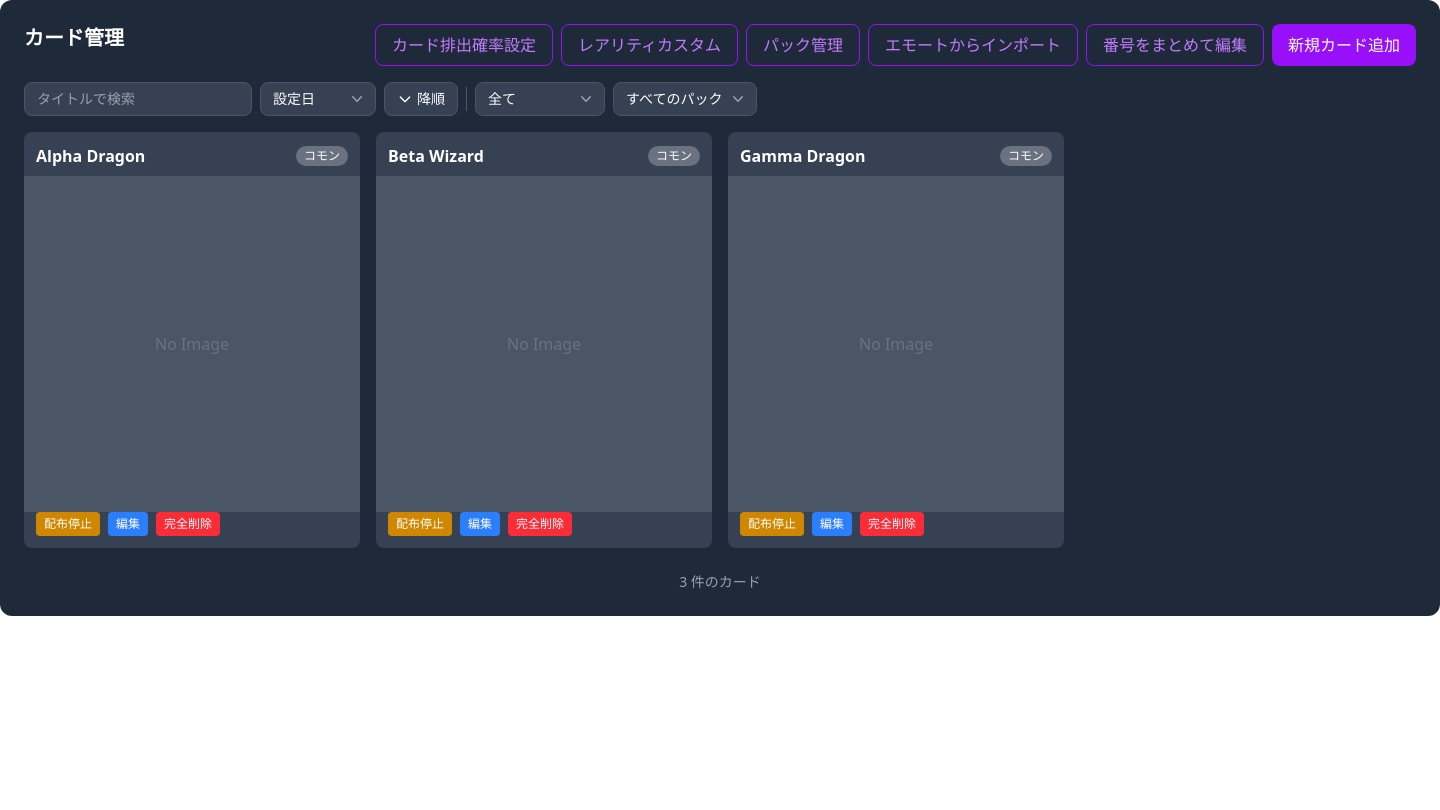
Test case: CardManager title search › filters the card management list by card title
The width and height of the screenshot is (1440, 810).
In the search field named "カードタイトル検索": [138, 99] box [24, 82, 252, 116], type "dragon"
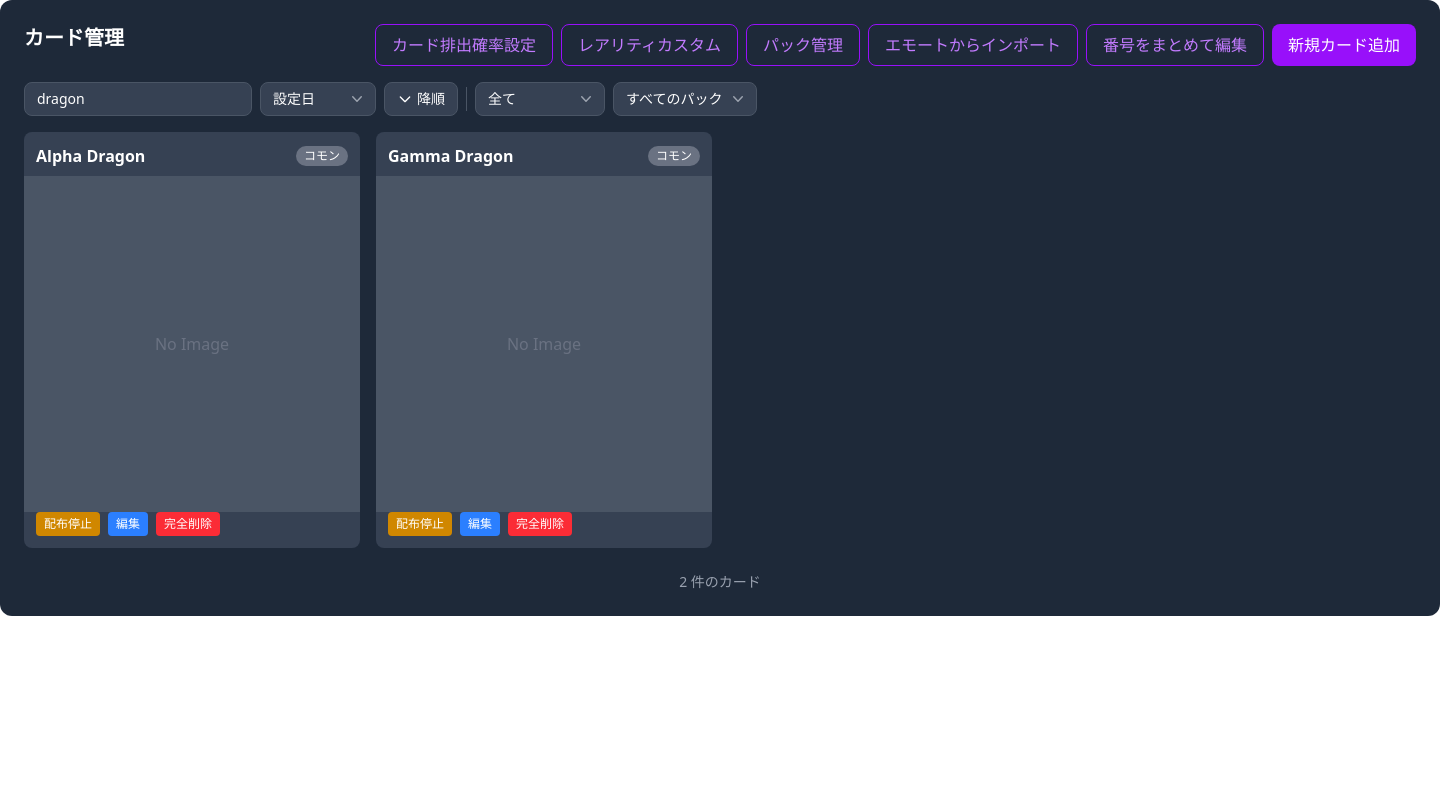
Expected: the heading "Alpha Dragon" is shown, [36, 144, 145, 168]
Now the heading "Beta Wizard" is gone
Now the text "2 件のカード" is shown, box [679, 572, 761, 592]
